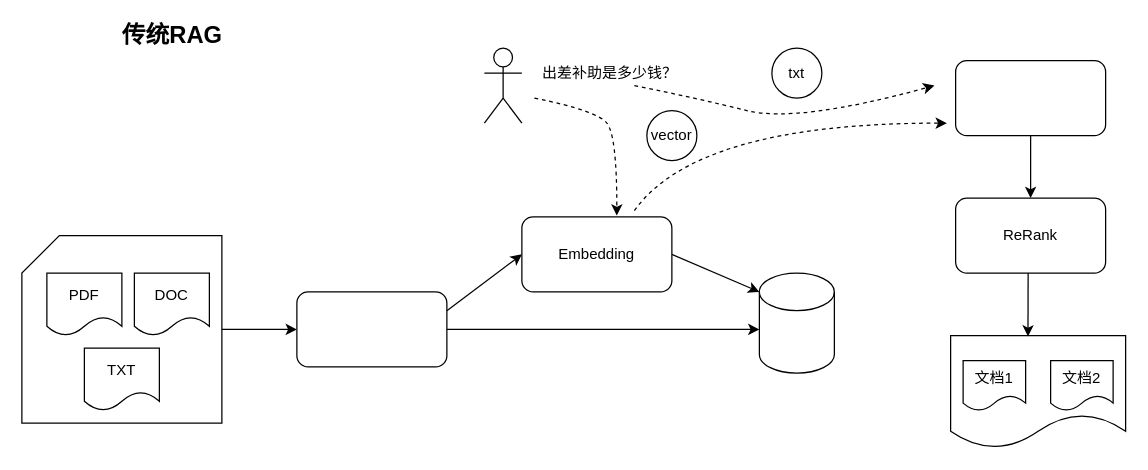
The diagram is 1148 pixels wide and 470 high, and some of its shapes have lost their labels. Each missing label, with the box of its shape:
Actor: (483, 47, 522, 123)
Faiss: (758, 272, 834, 373)
RRF: (954, 59, 1106, 136)
文档分割: (296, 291, 447, 367)
